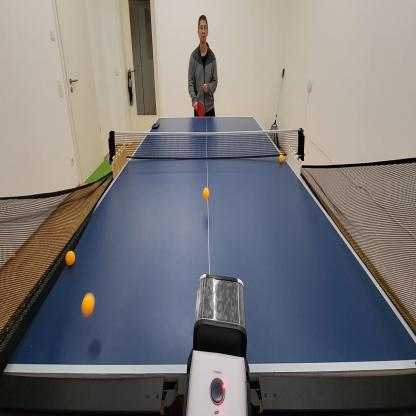Ball: (80, 290, 96, 318), (64, 248, 76, 268), (202, 185, 210, 202), (10, 250, 17, 262), (278, 153, 285, 165), (102, 182, 106, 190)
